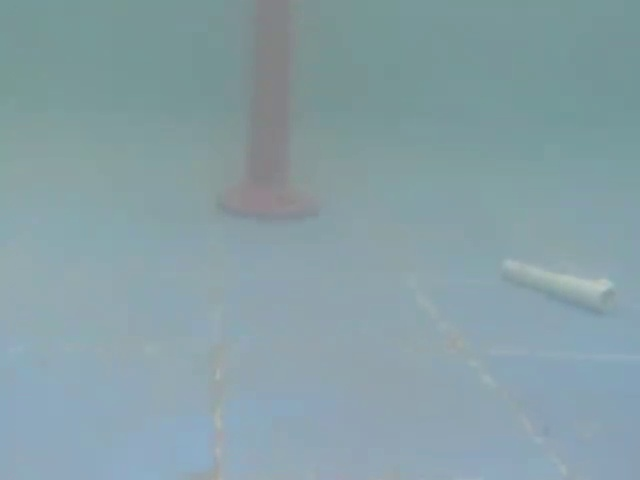flare: (207, 0, 334, 222)
